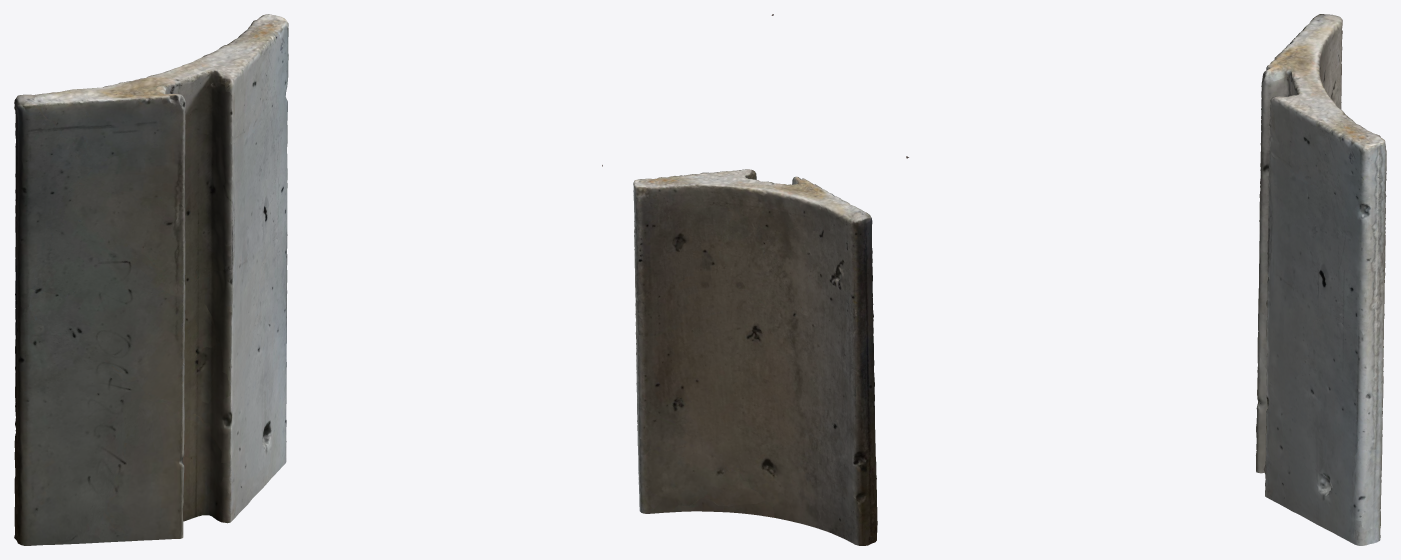
The picture shows the model from 3 angles, left to right: view 1: azimuth 30°, elevation 25°; view 2: azimuth 150°, elevation 25°; view 3: azimuth 270°, elevation 25°; orthographic projection. The views are drawn at different scales.
Parts seen in each view (by area): view 1: Node; view 2: Node; view 3: Node.
Boxes of the visible parts, <box> form: Node: <box>14,14,602,545</box>; Node: <box>633,14,877,545</box>; Node: <box>906,14,1386,545</box>.
Size of the model in its own units: 0.5625 by 0.6798 by 0.7029.
Materials: 1 (1 with a texture image).
